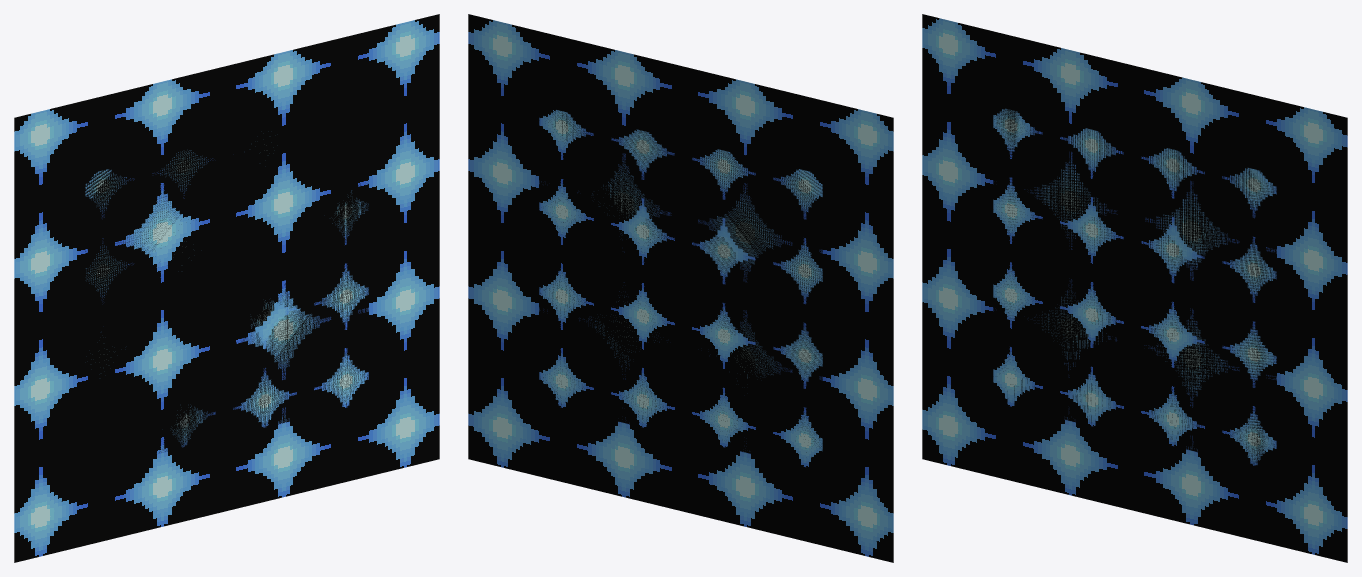
3 views of the same model, side by side, from view 1: azimuth 30°, elevation 25°; view 2: azimuth 150°, elevation 25°; view 3: azimuth 330°, elevation 25° (orthographic).
Parts seen in each view (by area): view 1: ef_033; view 2: ef_033; view 3: ef_033.
Boxes of the visible parts, <box> form: ef_033: <box>14,14,439,562</box>; ef_033: <box>468,14,893,562</box>; ef_033: <box>922,14,1347,562</box>.
Bounding box in the file's own units: 0.6001 × 0.6001 × 0.
Materials: 1 (1 with a texture image).
